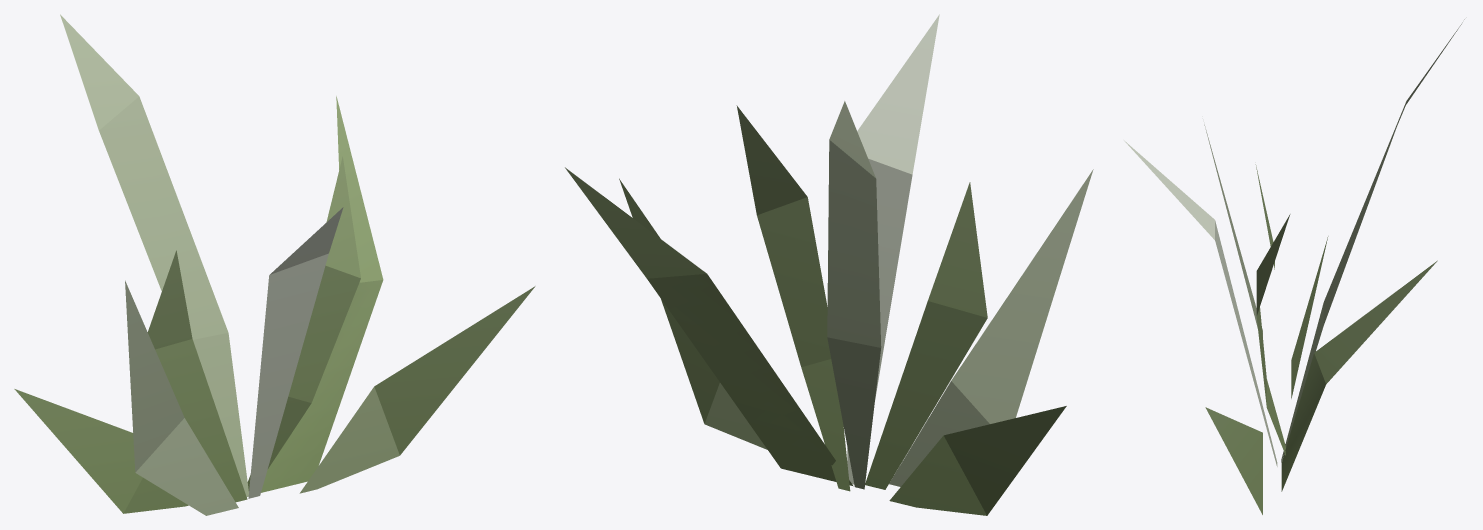
The model's file is Grass_01.fbx.
The picture shows the model from 3 angles, left to right: view 1: azimuth 30°, elevation 25°; view 2: azimuth 150°, elevation 25°; view 3: azimuth 270°, elevation 25°; orthographic projection. The views are drawn at different scales.
Visible parts, largest first — view 1: grass-tall.002; view 2: grass-tall.002; view 3: grass-tall.002.
Part boxes in pixels (bbox=[...]): grass-tall.002: bbox=[14, 14, 535, 515]; grass-tall.002: bbox=[565, 14, 1093, 515]; grass-tall.002: bbox=[1124, 19, 1464, 514].
Bounding box in the file's own units: 125 × 113 × 87.07.
